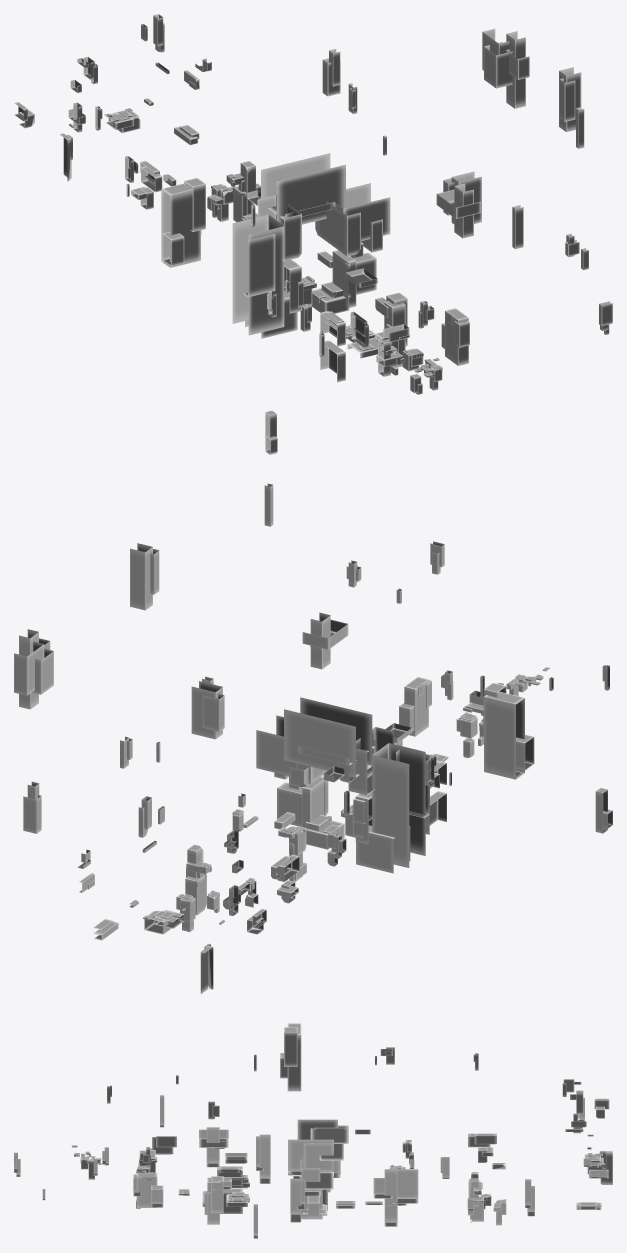
File: AlphaBowLevel 1.fbx
The picture shows the model from 3 angles, top to bottom: view 1: azimuth 30°, elevation 25°; view 2: azimuth 150°, elevation 25°; view 3: azimuth 270°, elevation 25°; orthographic projection. The views are drawn at different scales.
Parts seen in each view (by area): view 1: AlphaBowLevel; view 2: AlphaBowLevel; view 3: AlphaBowLevel.
Boxes of the visible parts, box(x1,y1,x2,y2) form: AlphaBowLevel: box(14, 14, 612, 454); AlphaBowLevel: box(14, 483, 612, 993); AlphaBowLevel: box(14, 1023, 612, 1238).
Bounding box in the file's own units: 19199 × 30482 × 11389.
